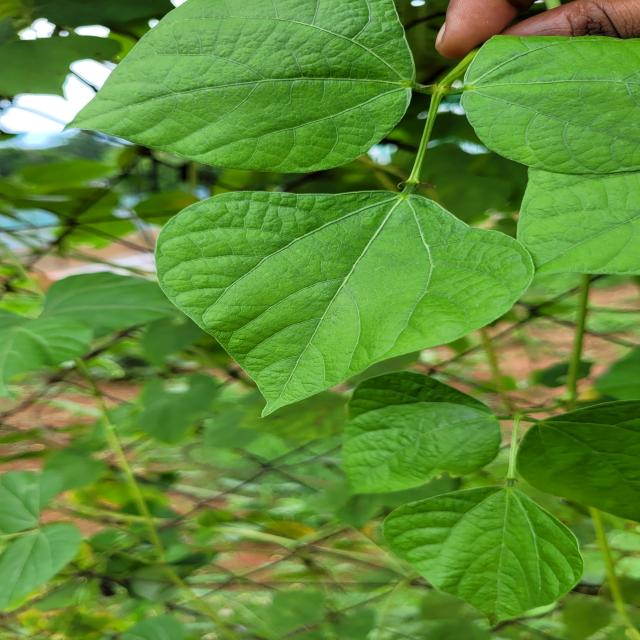Dolicos bean_healthy: (156, 192, 546, 415), (66, 0, 411, 172), (368, 496, 588, 623), (463, 35, 640, 179), (339, 370, 504, 492), (505, 389, 640, 526)
